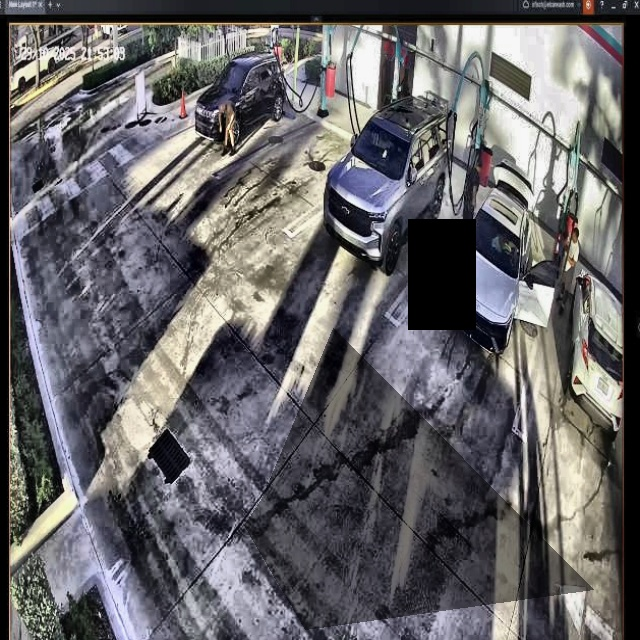Car: (321, 96, 449, 267), (445, 160, 547, 350)
